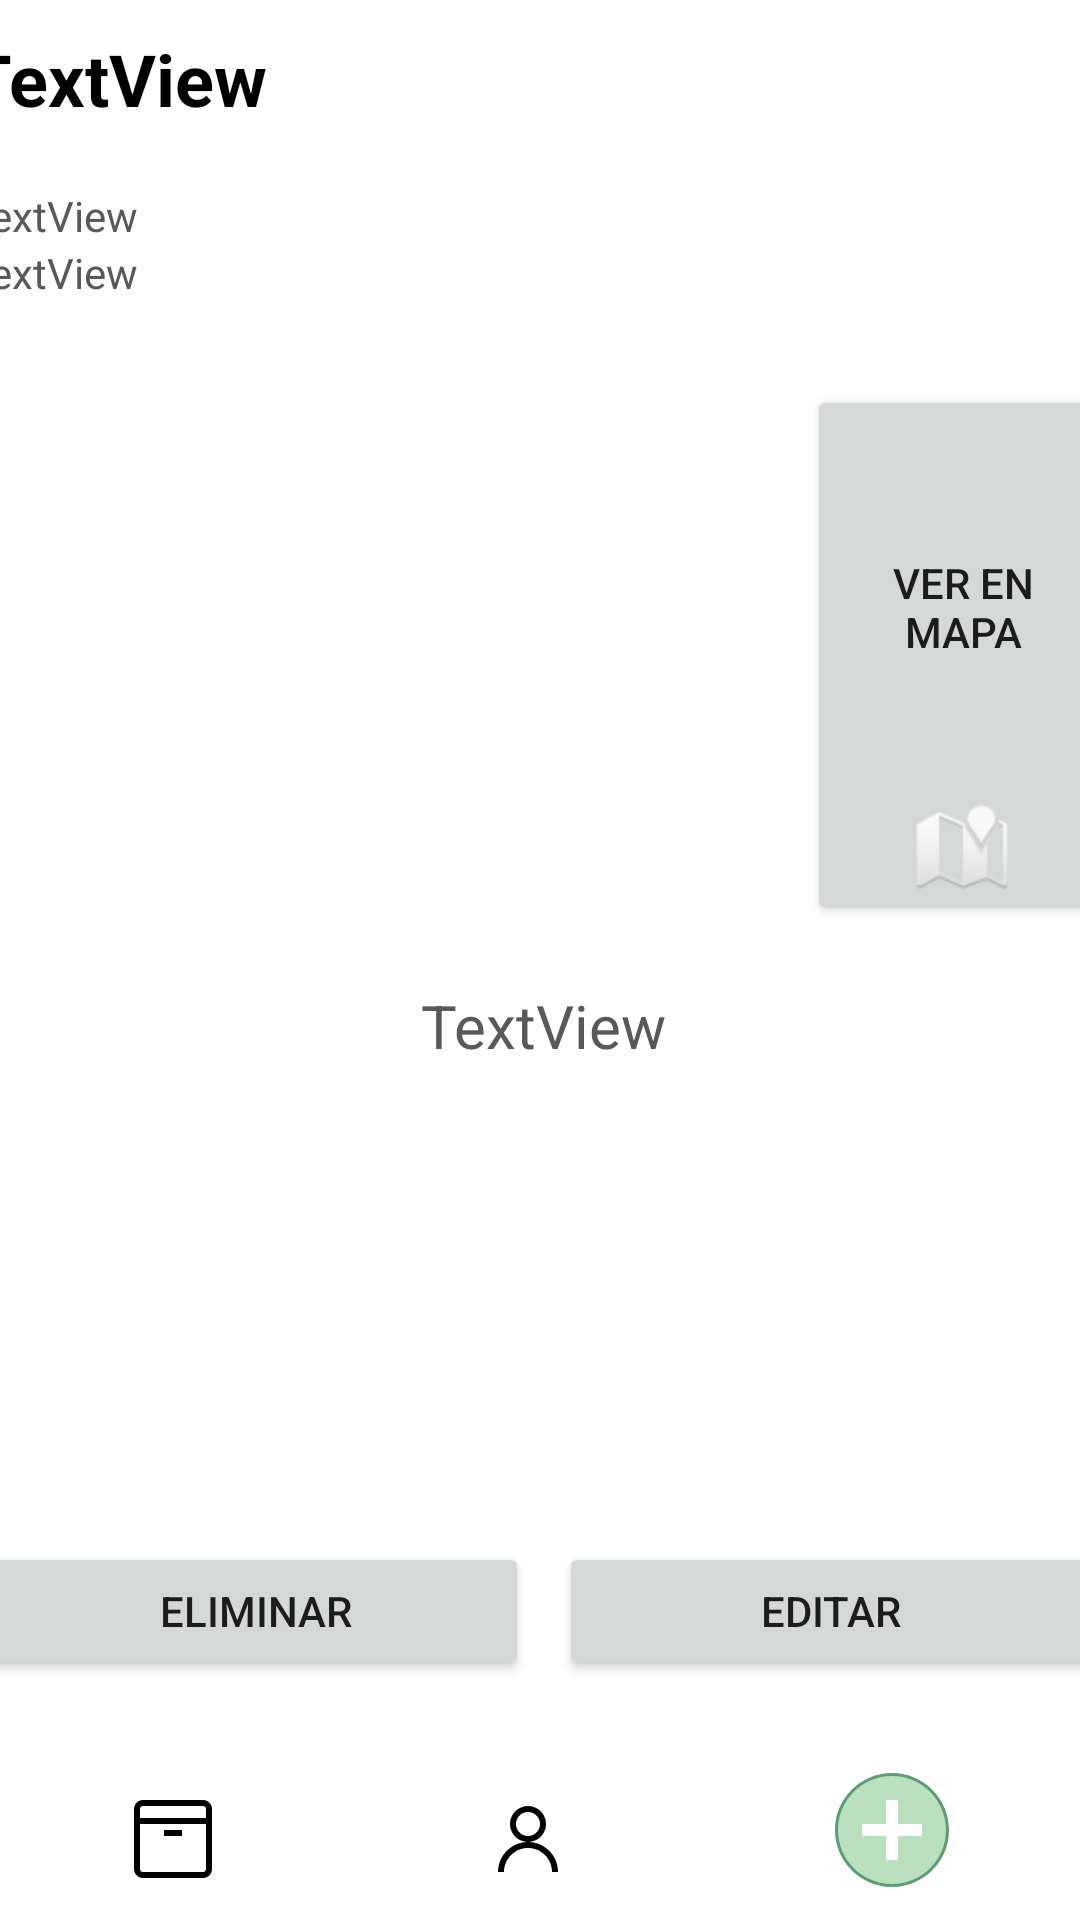

Icons on this 1080x1920 Android screen, each with the point to tap as point (x, y):
addplace: point (892, 1830)
box: point (173, 1839)
porfilesettings: point (528, 1839)
